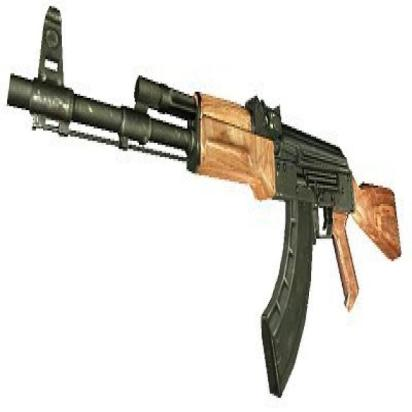Gun: (4, 3, 403, 398)
